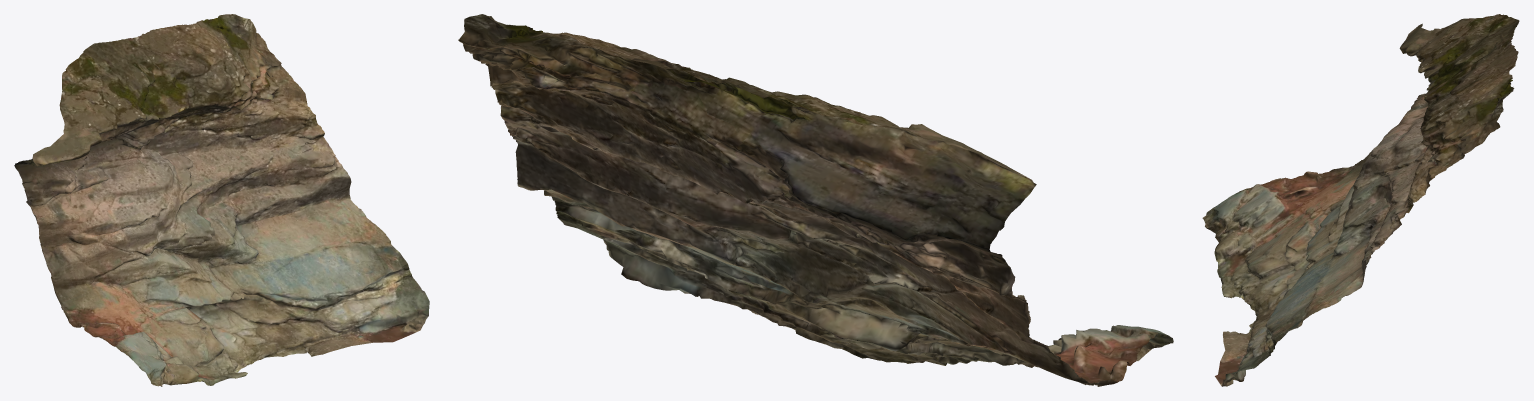
Rendered from rock_face_01.gltf.
The picture shows the model from 3 angles, left to right: view 1: azimuth 30°, elevation 25°; view 2: azimuth 150°, elevation 25°; view 3: azimuth 270°, elevation 25°; orthographic projection. The views are drawn at different scales.
Parts seen in each view (by area): view 1: rock_face_01; view 2: rock_face_01; view 3: rock_face_01.
Boxes of the visible parts, left/top/right/bottom form: rock_face_01: left=14, top=14, right=429, bottom=386; rock_face_01: left=458, top=14, right=1173, bottom=386; rock_face_01: left=1202, top=14, right=1519, bottom=386.
Bounding box in the file's own units: 4.95 × 3.56 × 3.83.
1 material, 1 textured.
